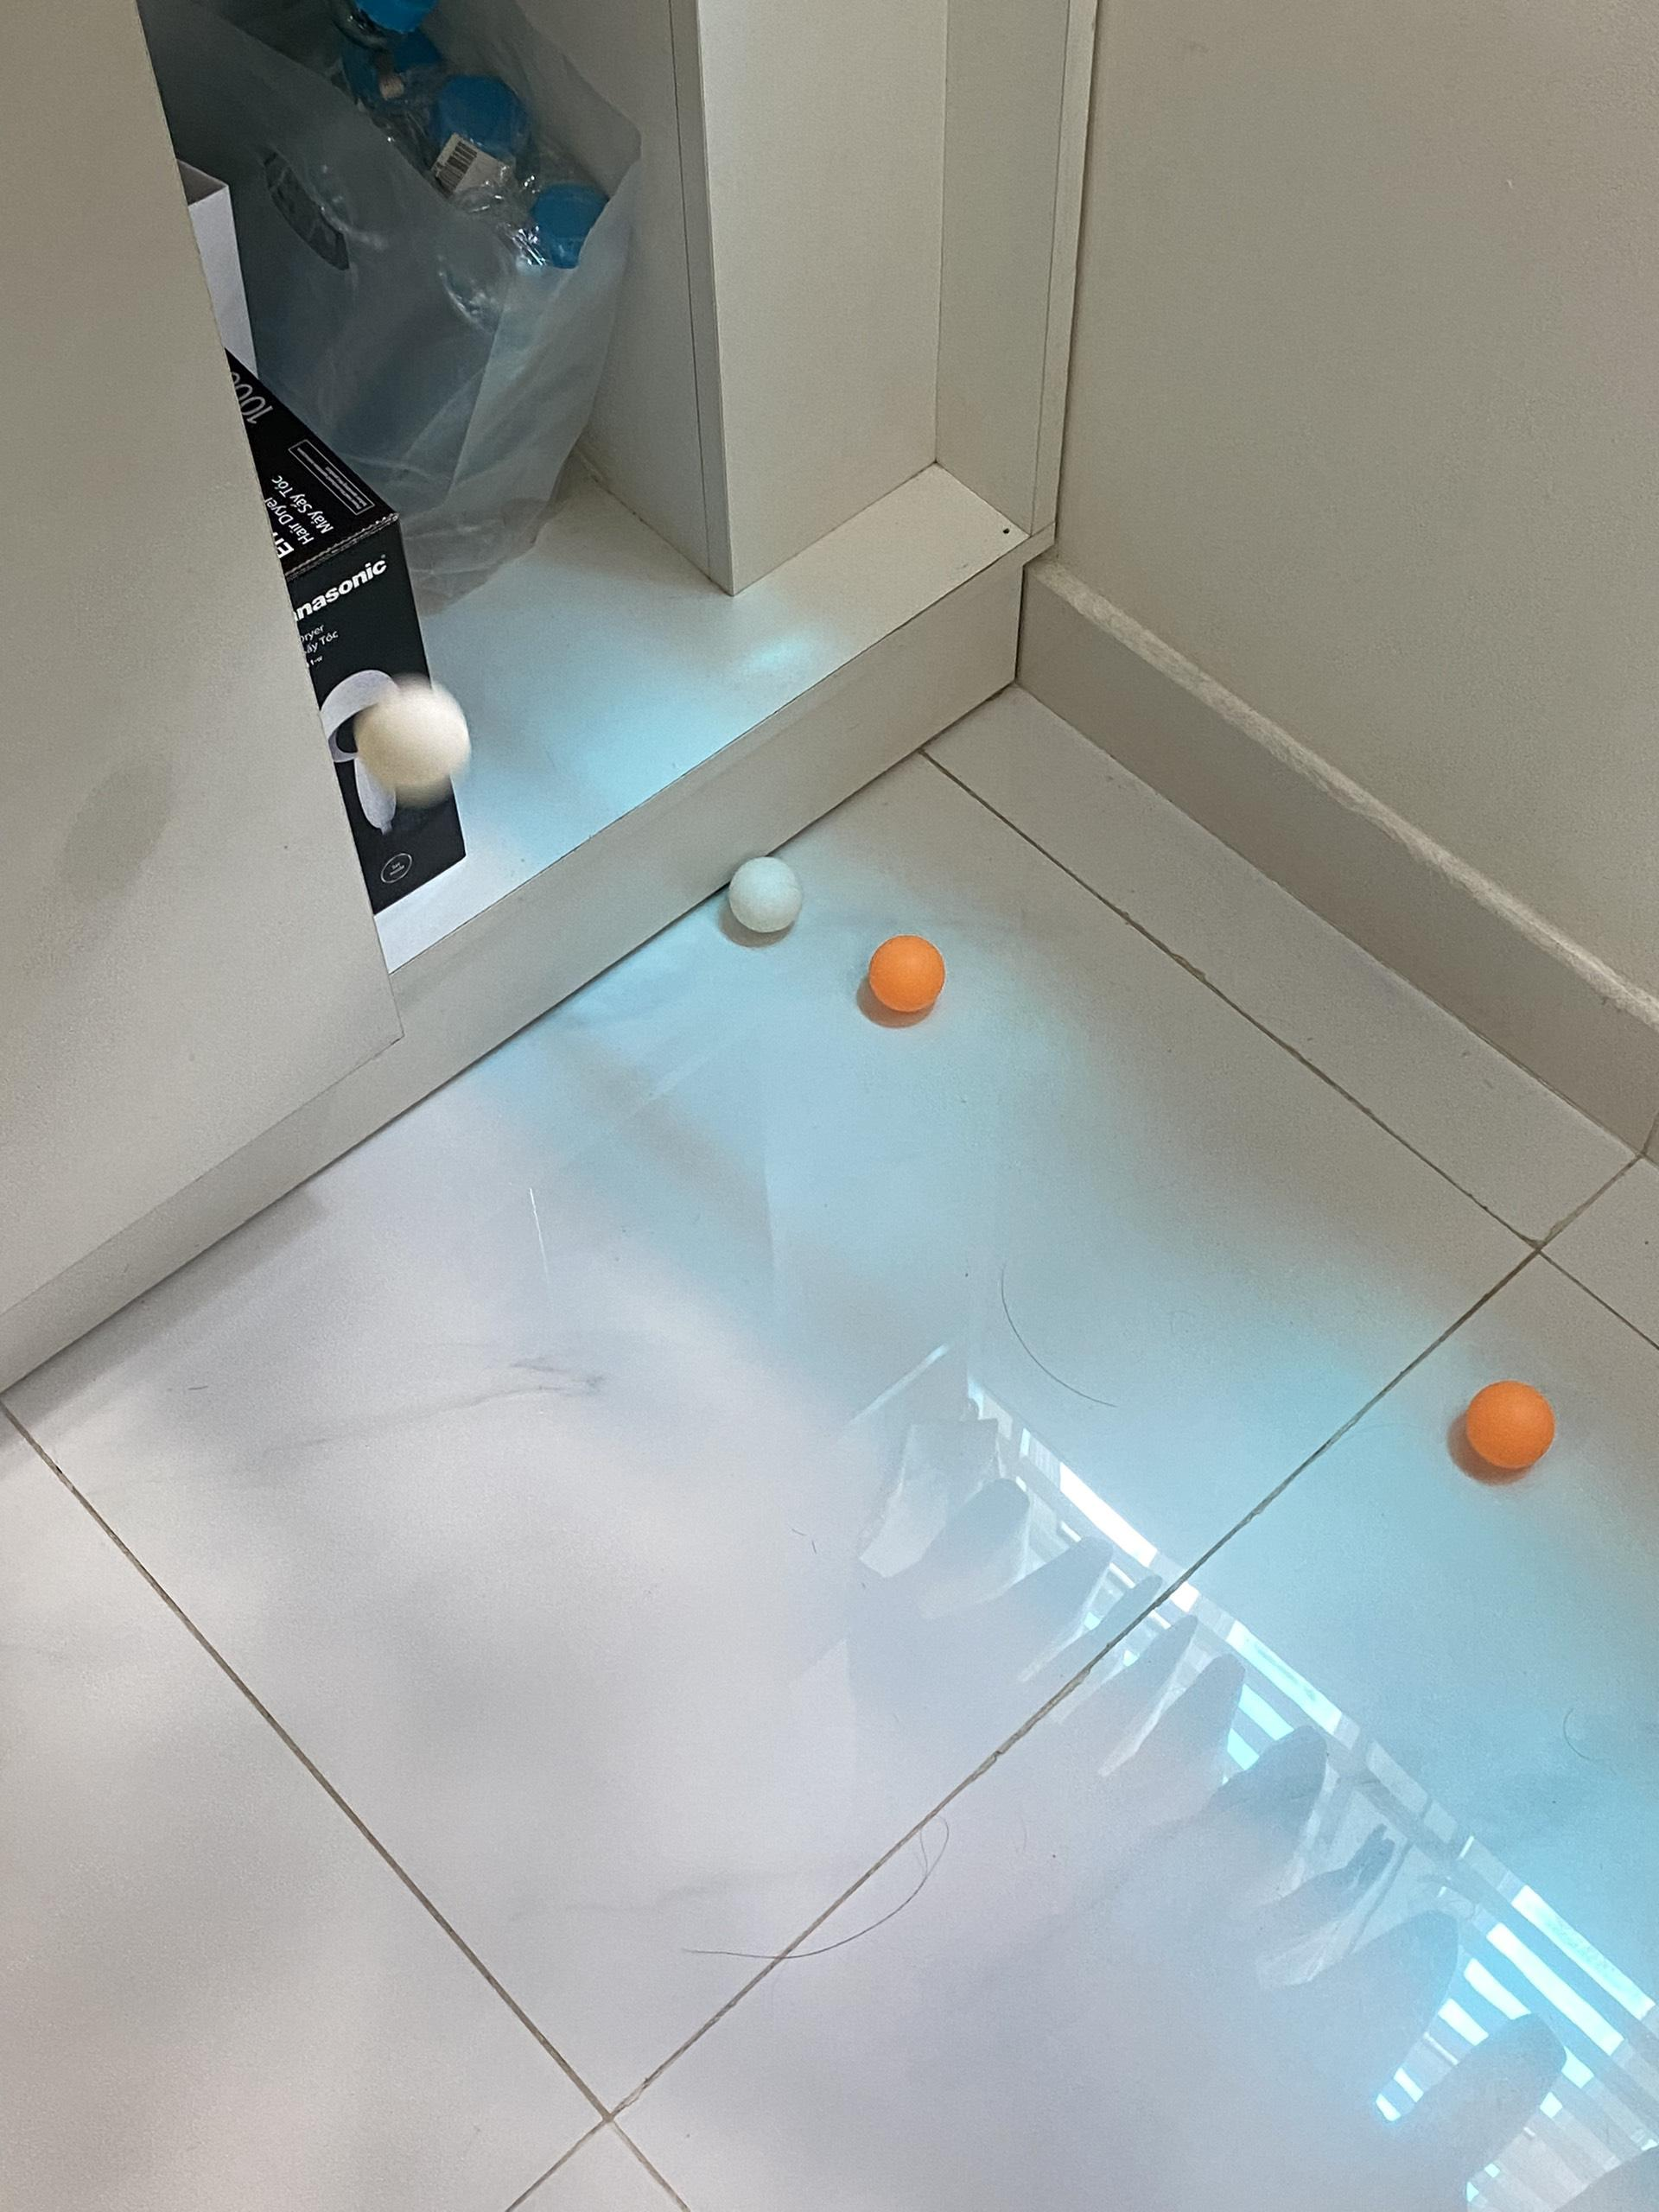oball: (366, 686, 469, 794), (1466, 1379, 1558, 1468), (728, 855, 803, 935), (870, 934, 945, 1014)
